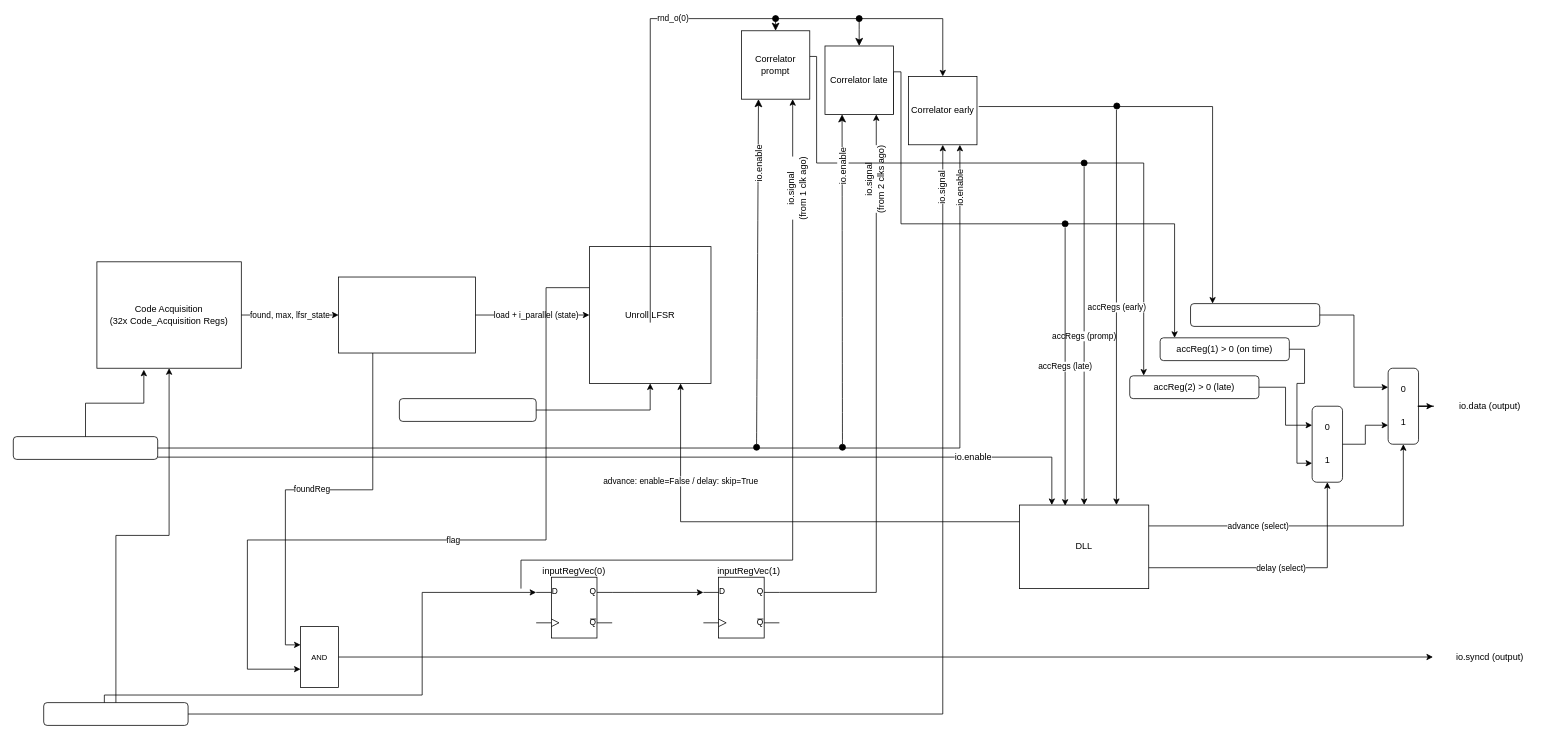
This 1560x739 diagram has some shape labels left out. The centre of each missing label's shape, as x and y in pixels:
accReg(0) > 0 (early): (x=1255, y=314)
Compare Only keep highest scoring offset: (x=406, y=314)
io.enable : Bool: (x=85, y=447)
io.signal : SInt(14 bits): (x=115, y=713)
lfsr_tracking.io.enable = True: (x=467, y=409)
